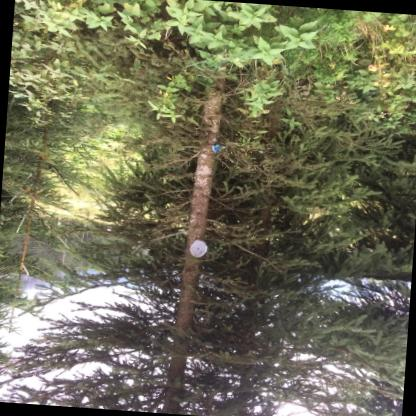Plastic: (189, 239, 207, 256)
Waste: (211, 143, 225, 152)
